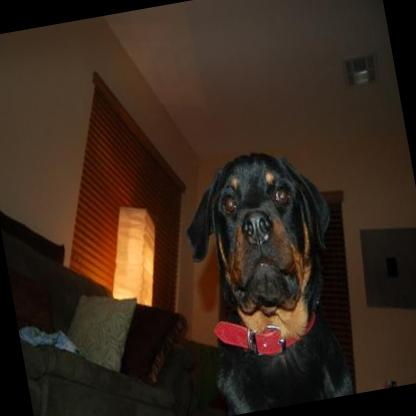Rottweiler: (176, 140, 359, 414)
